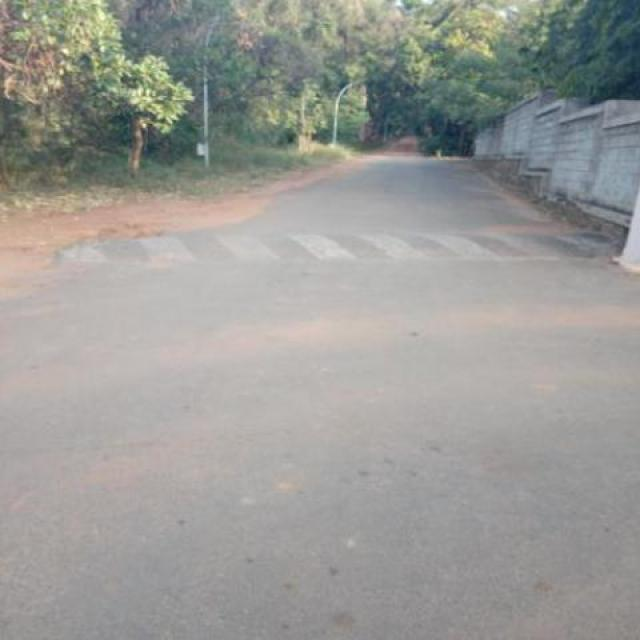Speed Bump: (36, 227, 622, 266)
